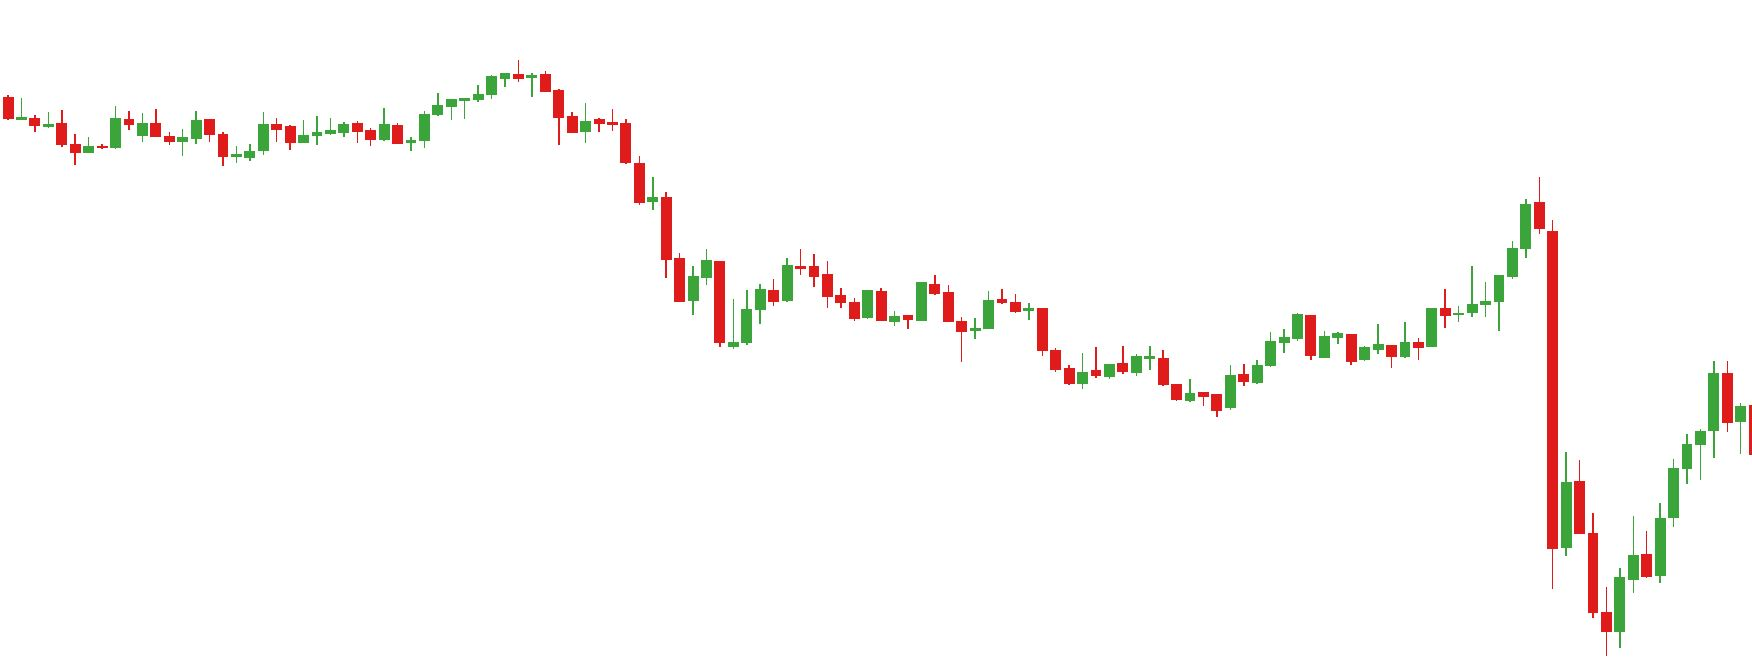sell: (859, 277, 942, 313)
